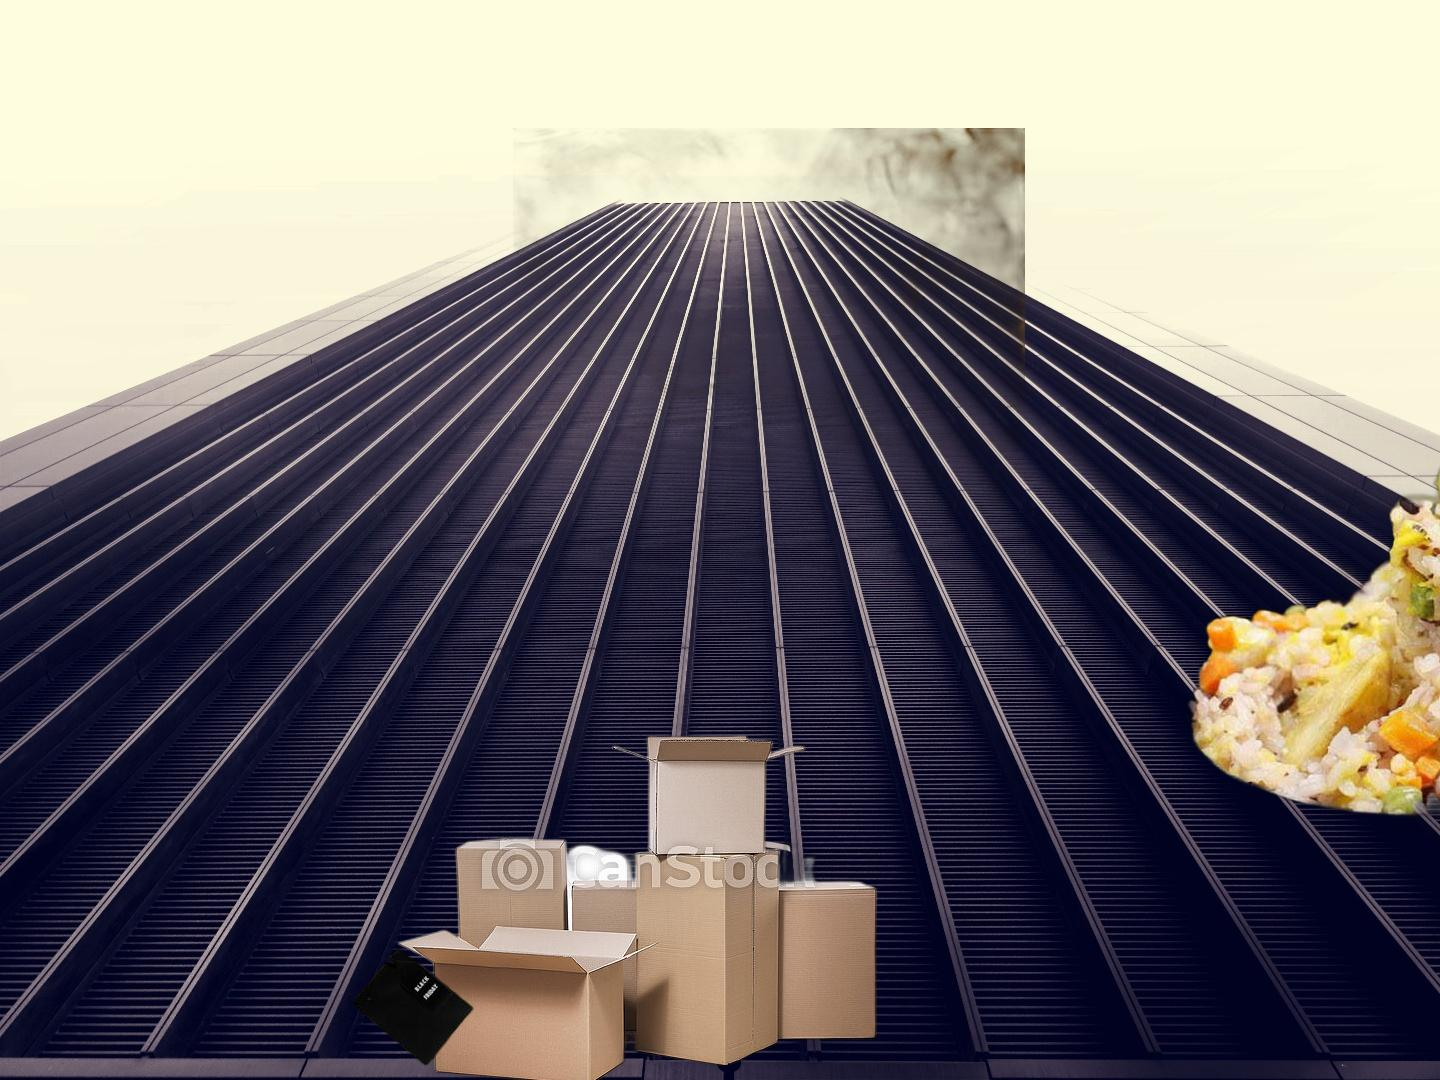biological: (1073, 427, 1440, 833)
paper: (513, 128, 1025, 512)
paper-bag: (350, 947, 475, 1068)
trashbox-cardboard: (392, 731, 882, 1080)
